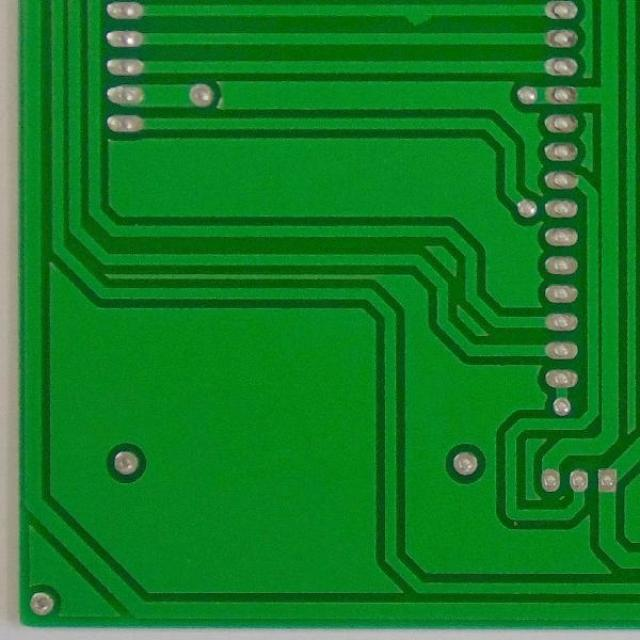spur: (392, 1, 442, 31)
